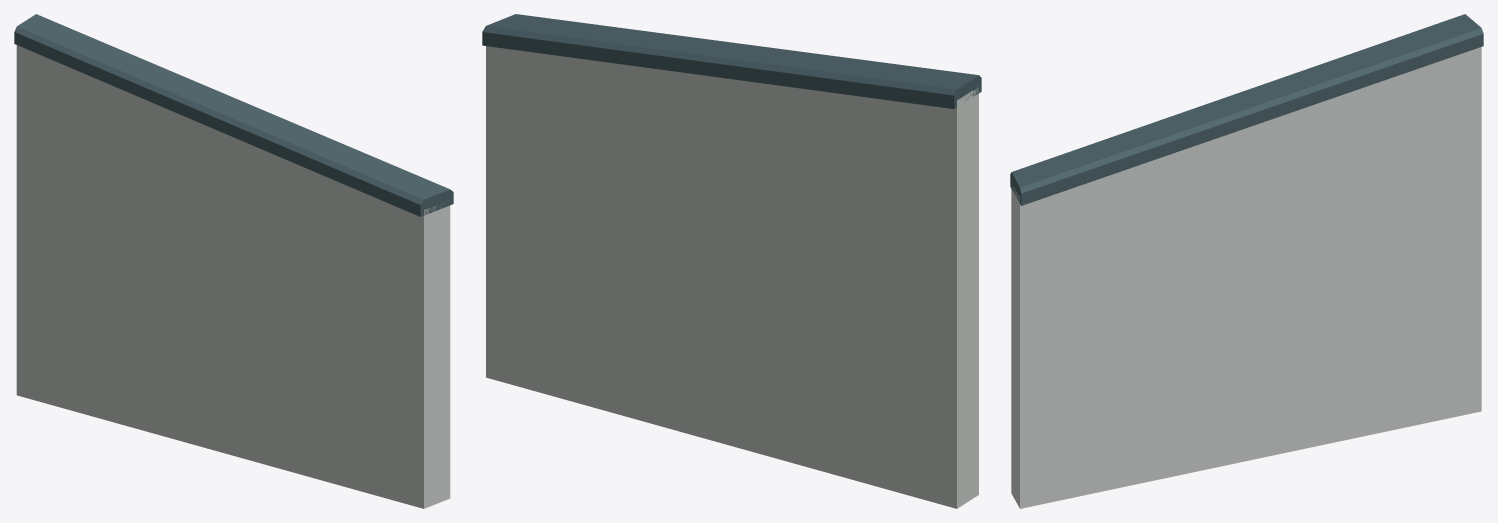
Rendered from halfwall_26_starboard_rise_1_miter_10000_2361_8944_4472.glb.
The picture shows the model from 3 angles, left to right: view 1: azimuth 30°, elevation 25°; view 2: azimuth 210°, elevation 25°; view 3: azimuth 270°, elevation 25°; orthographic projection. The views are drawn at different scales.
Visible parts, largest first — view 1: Seamless solid halfwall.101, Seamless top cap.101; view 2: Seamless solid halfwall.101, Seamless top cap.101; view 3: Seamless solid halfwall.101, Seamless top cap.101.
Part boxes in pixels (bbox=[...]): Seamless solid halfwall.101: bbox=[16, 45, 450, 508]; Seamless top cap.101: bbox=[14, 14, 453, 216]; Seamless solid halfwall.101: bbox=[486, 46, 978, 508]; Seamless top cap.101: bbox=[482, 14, 981, 108]; Seamless solid halfwall.101: bbox=[1011, 47, 1481, 508]; Seamless top cap.101: bbox=[1010, 14, 1483, 205].
Size of the model in its own units: 0.5947 by 0.925 by 1.03.
